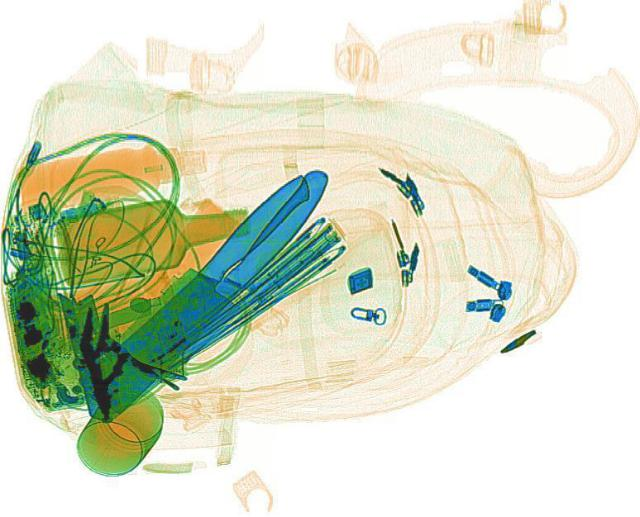Knife: (58, 153, 342, 430), (68, 168, 350, 421)
